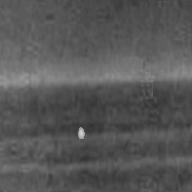Target: (76, 126, 86, 139)
